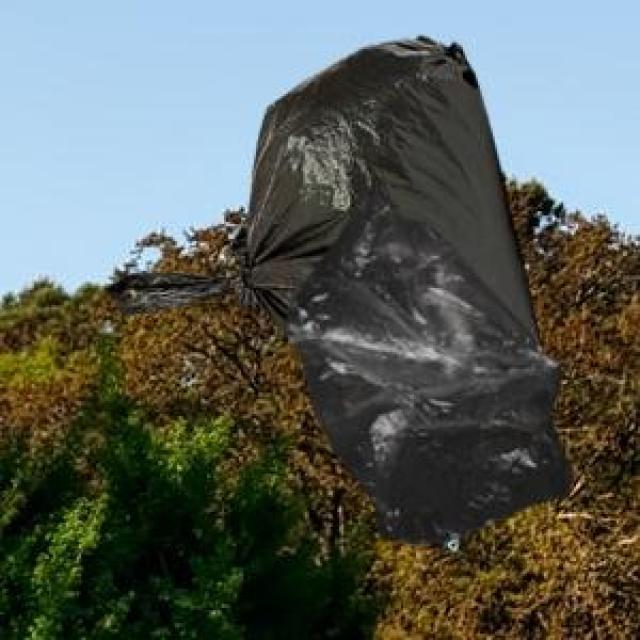miscellaneous trash: (100, 32, 537, 344)
